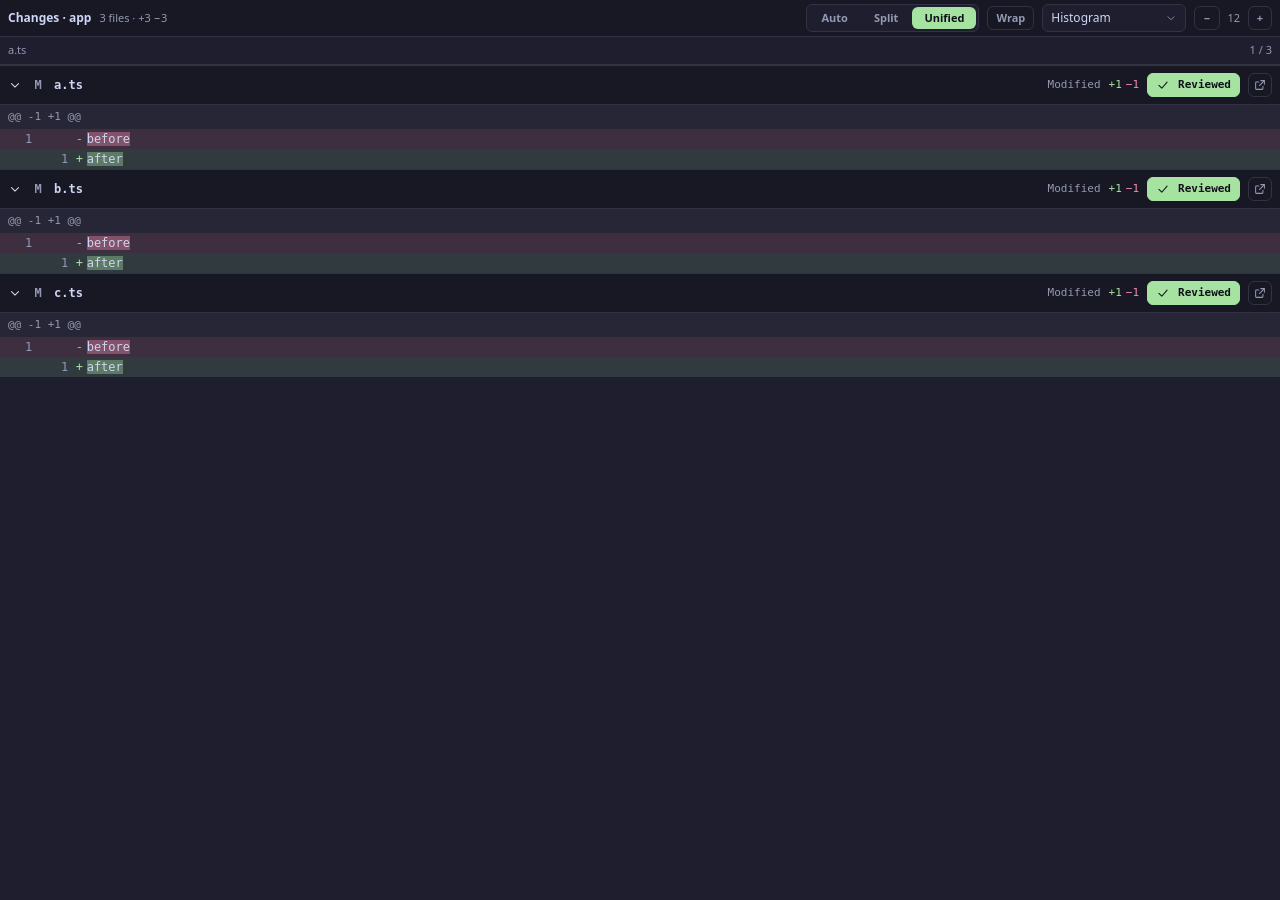
Test: Undo covers every write still inside its window › a conflict on the newest write undoes nothing and tries no other
Expected: the list with test id "review-list" is shown, [0,65,1279,377]
Click the 1st button with test id "review-file-reviewed". click: (1194, 85)
box: [1147,73,1240,97]
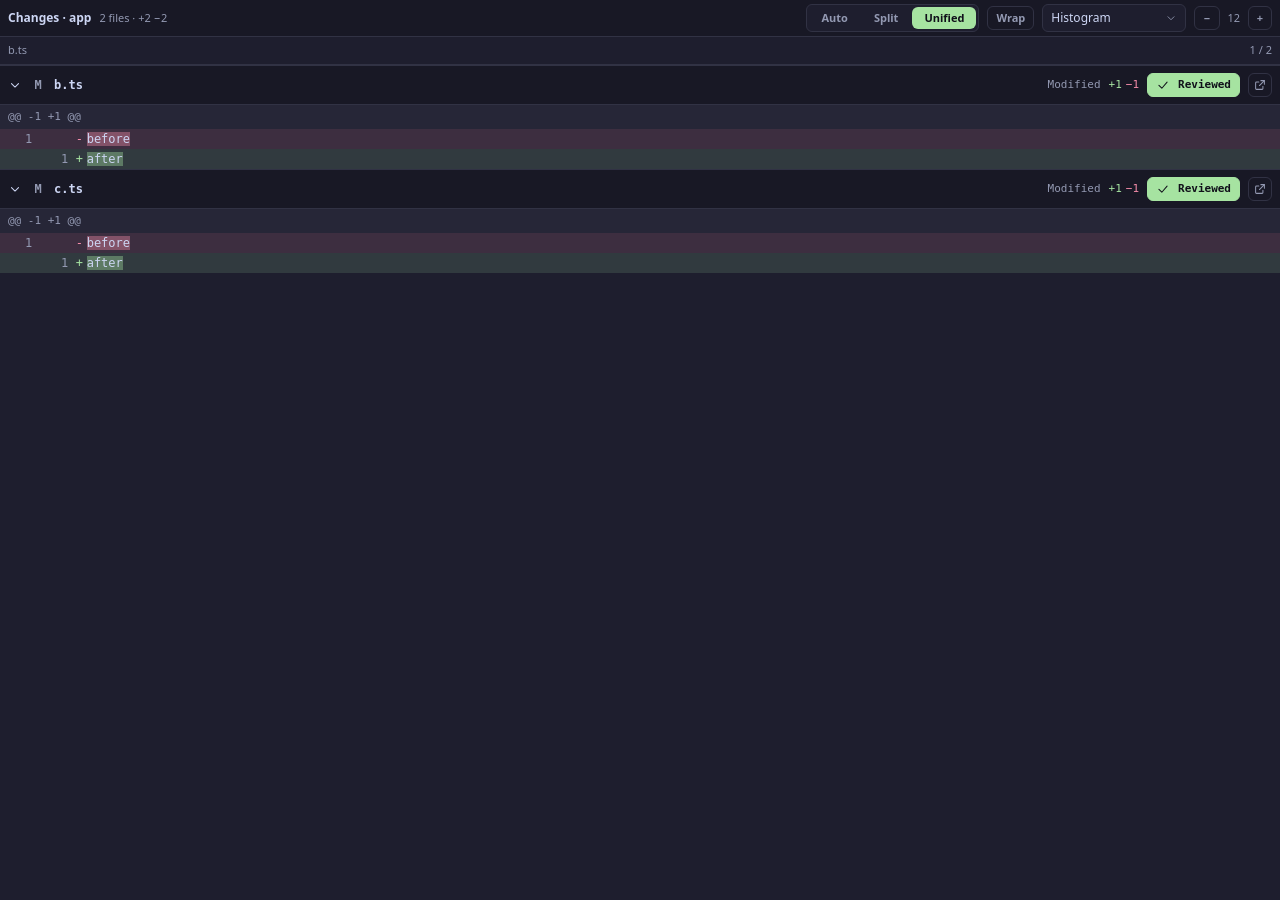
Click the 1st button with test id "review-file-reviewed". click: (1194, 85)
box: [1147,73,1240,97]
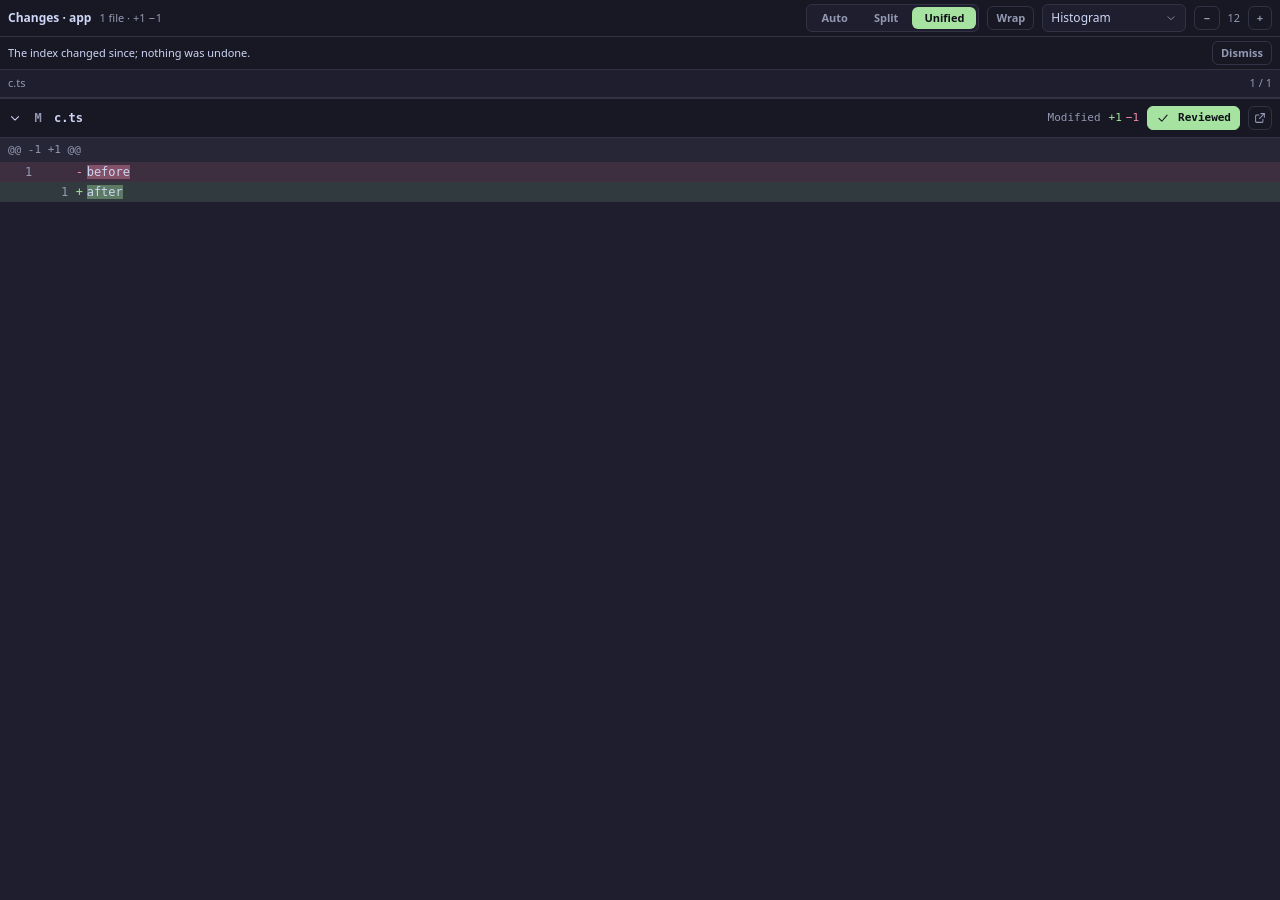
Expected: the message with test id "review-notice" shows "The index changed since; nothing was undone.", [8,45,250,60]
